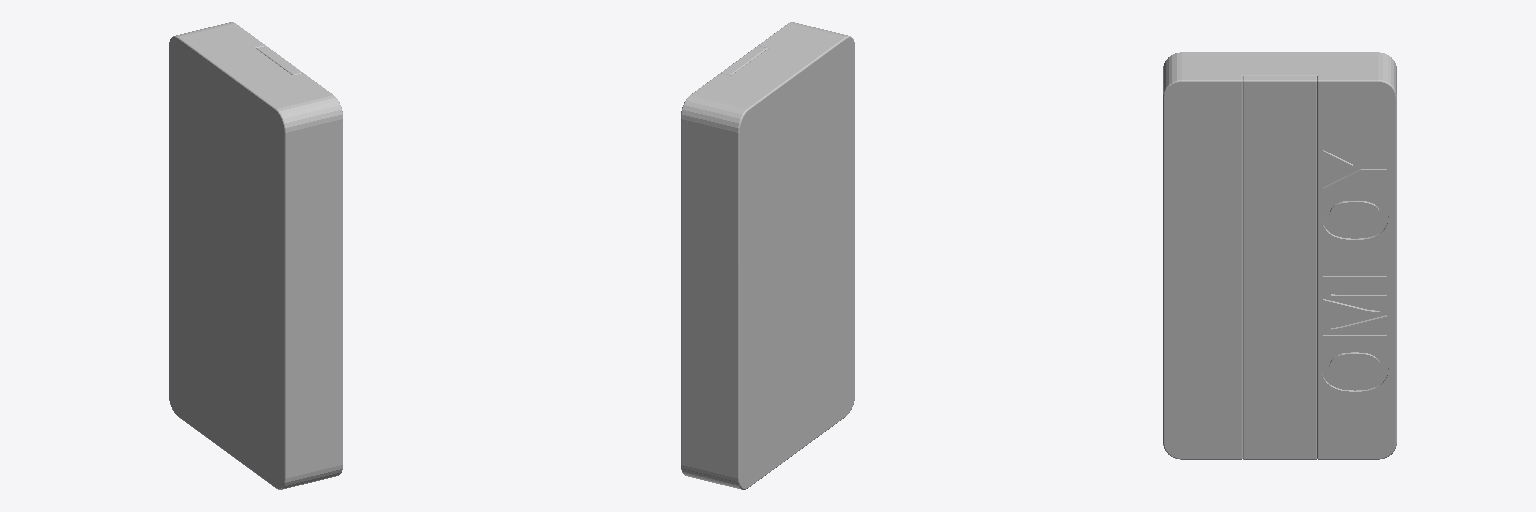
The model's file is omloy_compute.obj.
3 views of the same model, side by side, from view 1: azimuth 30°, elevation 25°; view 2: azimuth 150°, elevation 25°; view 3: azimuth 270°, elevation 25° (orthographic).
Visible parts, largest first — view 1: Extruded.002; view 2: Extruded.002; view 3: Extruded.002, Solid_200.
Part boxes in pixels (x1,y1,x2,y2): Extruded.002: (169,22,342,489); Extruded.002: (681,22,854,489); Extruded.002: (1163,52,1396,459); Solid_200: (1243,76,1316,459).
Bounding box in the file's own units: 2.01 × 12.35 × 6.89.